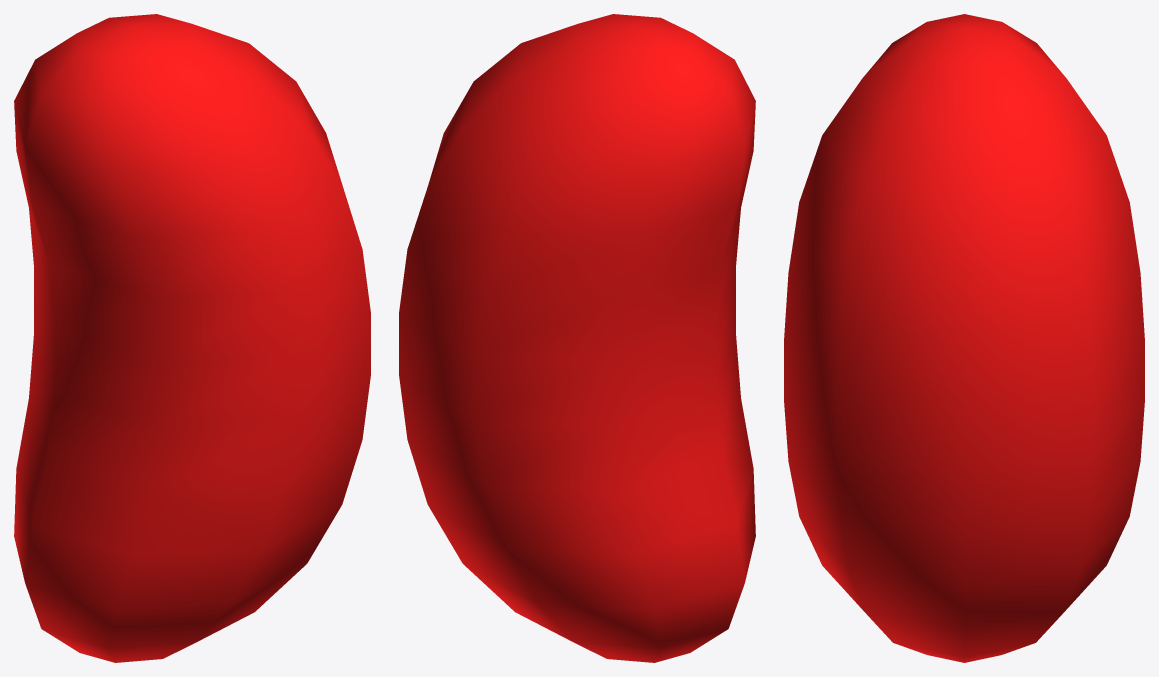
File: Jelly_1.FBX
3 views of the same model, side by side, from view 1: azimuth 30°, elevation 25°; view 2: azimuth 150°, elevation 25°; view 3: azimuth 270°, elevation 25° (orthographic).
Visible parts, largest first — view 1: Jelly1; view 2: Jelly1; view 3: Jelly1.
Part boxes in pixels (bbox=[...]): Jelly1: bbox=[14, 14, 370, 662]; Jelly1: bbox=[399, 14, 755, 662]; Jelly1: bbox=[784, 14, 1144, 662].
Size of the model in its own units: 8.68 by 15.99 by 8.46.
